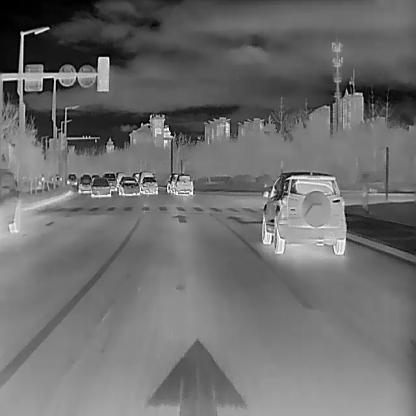car: (261, 170, 346, 254), (0, 166, 20, 233), (118, 175, 139, 195), (90, 177, 110, 196), (174, 174, 192, 195), (166, 172, 182, 192), (140, 175, 157, 193), (137, 170, 155, 184), (77, 174, 91, 192), (102, 172, 116, 188), (67, 172, 76, 184), (114, 171, 124, 181)
